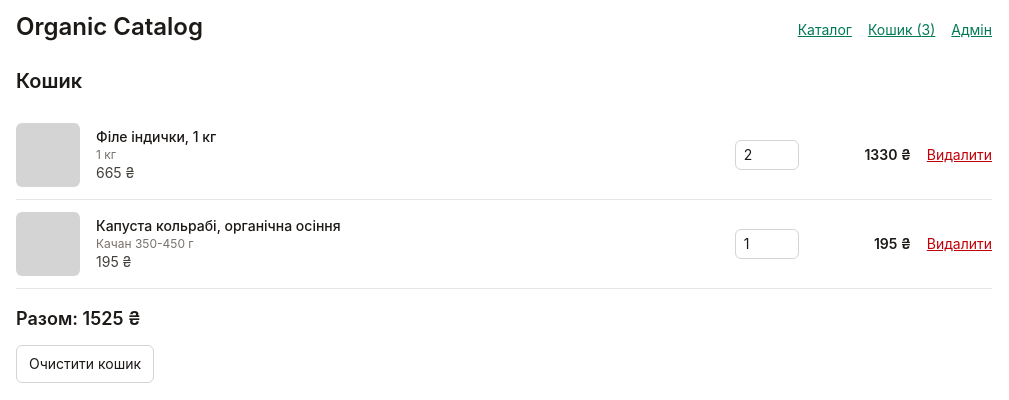
Test: BasketPage › Clearing the basket
The image size is (1009, 400).
Click the button "Очистити кошик": [85, 364] box [16,345,154,383]
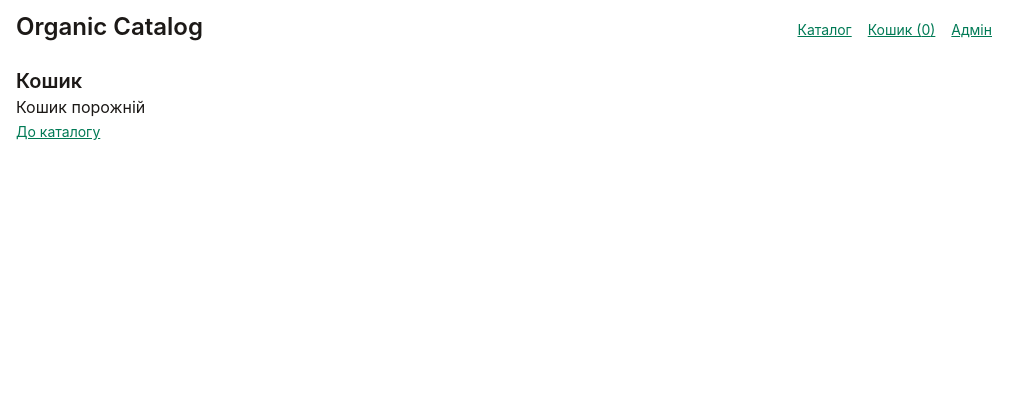
Check: the message reads "Кошик порожній", box [16,97,145,117]
Check: the link "До каталогу" is shown, box [16,123,100,140]
Check: the list is gone
